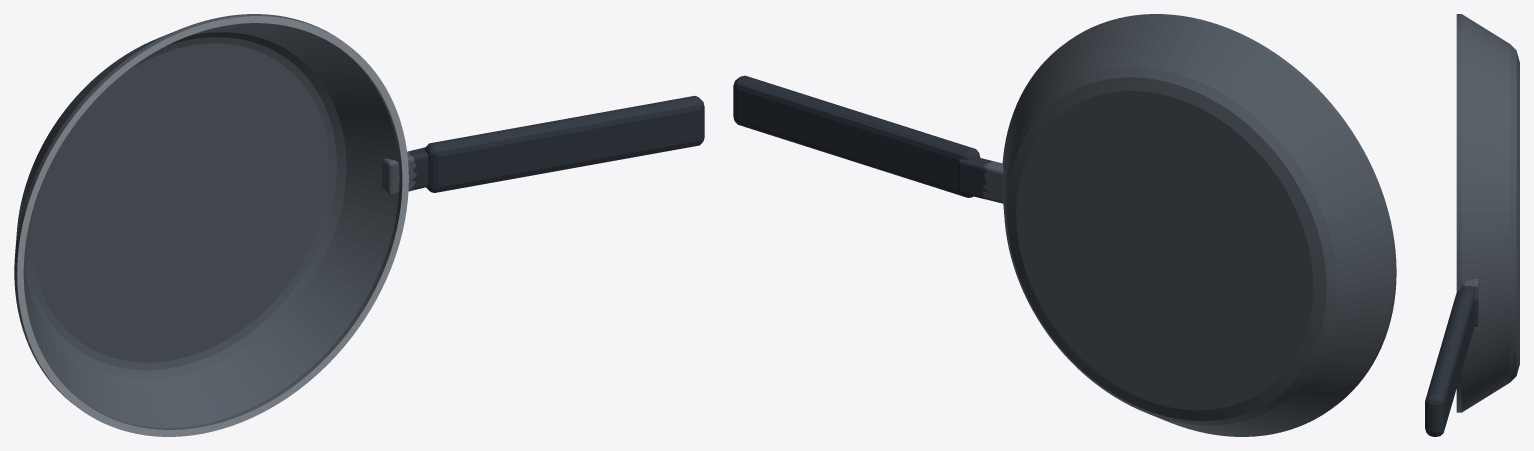
3 views of the same model, side by side, from view 1: azimuth 30°, elevation 25°; view 2: azimuth 150°, elevation 25°; view 3: azimuth 270°, elevation 25° (orthographic). The views are drawn at different scales.
Parts seen in each view (by area): view 1: geometry_0; view 2: geometry_0; view 3: geometry_0.
Part boxes in pixels (x1=…): geometry_0: x1=14, y1=14, x2=704, y2=436; geometry_0: x1=733, y1=14, x2=1396, y2=436; geometry_0: x1=1425, y1=14, x2=1519, y2=436.
Bounding box in the file's own units: 0.4125 × 0.24 × 0.0571.
Materials: 1 (1 with a texture image).
